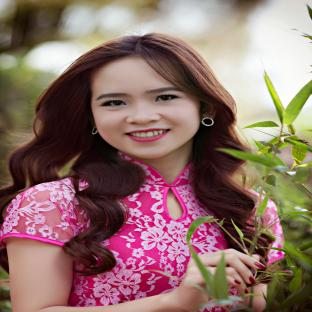Human: (0, 33, 258, 312), (190, 199, 283, 296)
